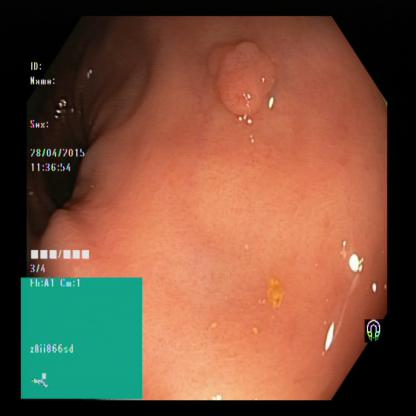Labels: (26, 54, 98, 277), (22, 277, 145, 399), (357, 292, 394, 352)
Polyps: (211, 31, 284, 130)
